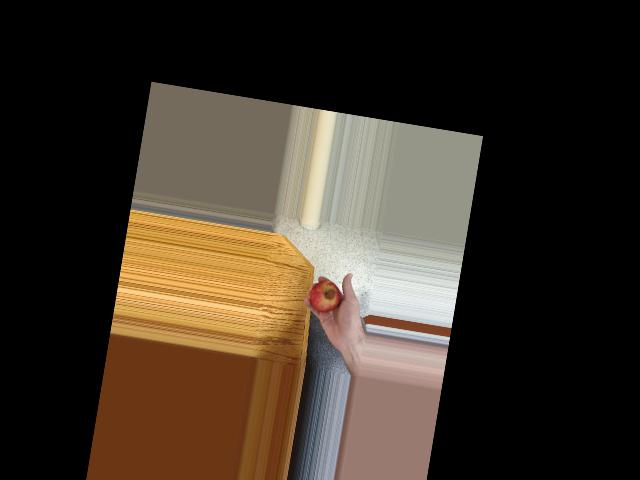apple: (303, 273, 348, 327)
